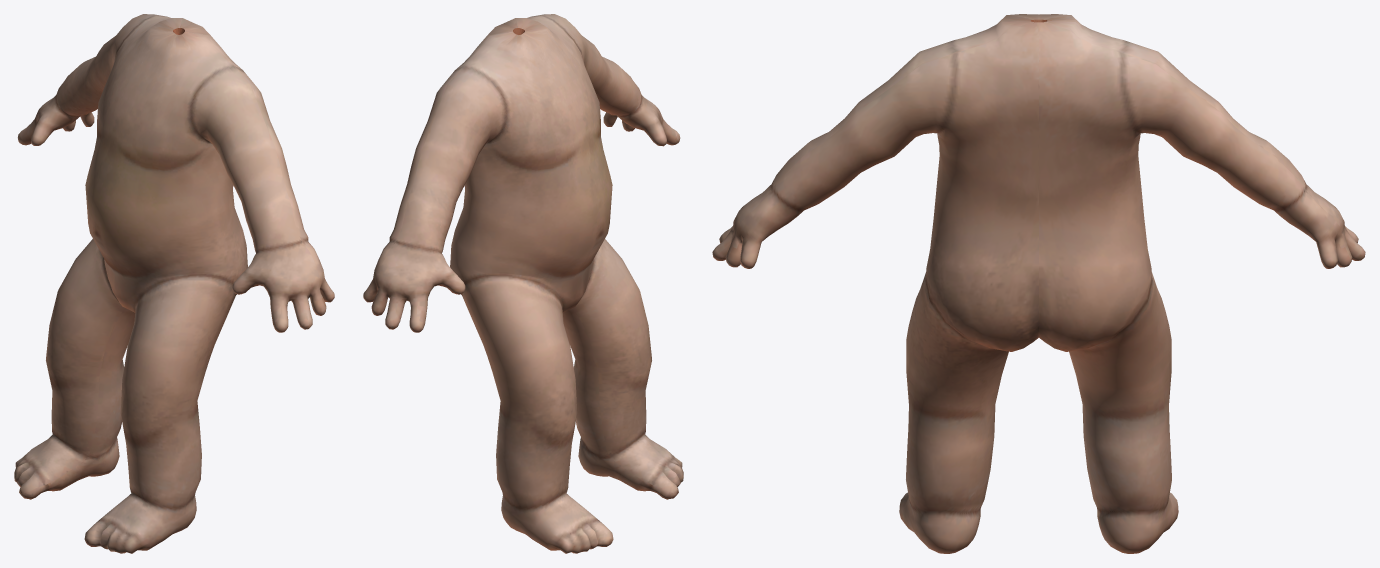
Rendered from SM_BabyDolls_Body.fbx.
3 views of the same model, side by side, from view 1: azimuth 30°, elevation 25°; view 2: azimuth 150°, elevation 25°; view 3: azimuth 270°, elevation 25° (orthographic). The views are drawn at different scales.
Parts seen in each view (by area): view 1: SM_BabyDolls_Body; view 2: SM_BabyDolls_Body; view 3: SM_BabyDolls_Body.
Part boxes in pixels (x1=…): SM_BabyDolls_Body: x1=14, y1=14, x2=334, y2=553; SM_BabyDolls_Body: x1=363, y1=14, x2=683, y2=553; SM_BabyDolls_Body: x1=712, y1=14, x2=1365, y2=553.
Size of the model in its own units: 5.9 by 16.26 by 15.44.
1 material, 1 textured.
